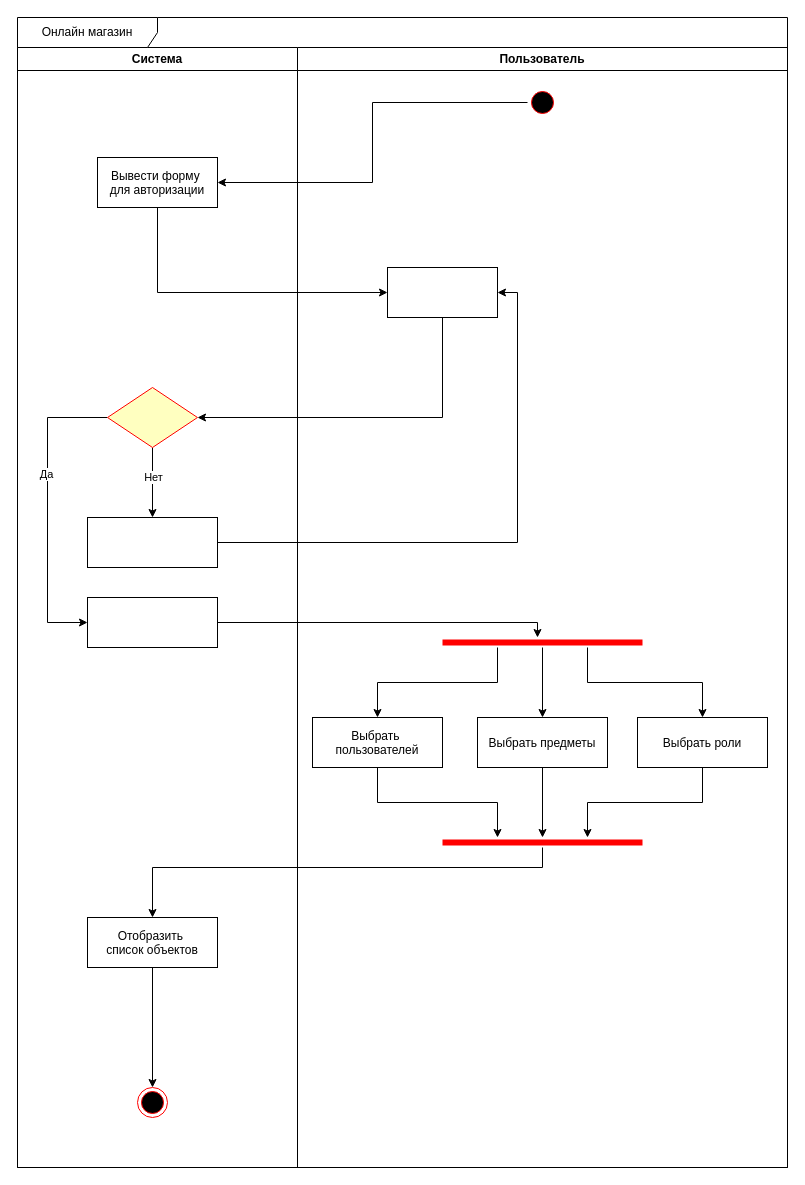
The diagram is 805 pixels wide and 1185 high, and some of its shapes have lost their labels. The shapes that lost their labels are listed below. From the top down, each one's centre as x and y in pixels, then its label:
the point at 442,292: Ввести данные для авторизации
the point at 152,417: Данные верны?
the point at 152,542: Сообщить о неверных данных
the point at 152,622: Отобразить меню
